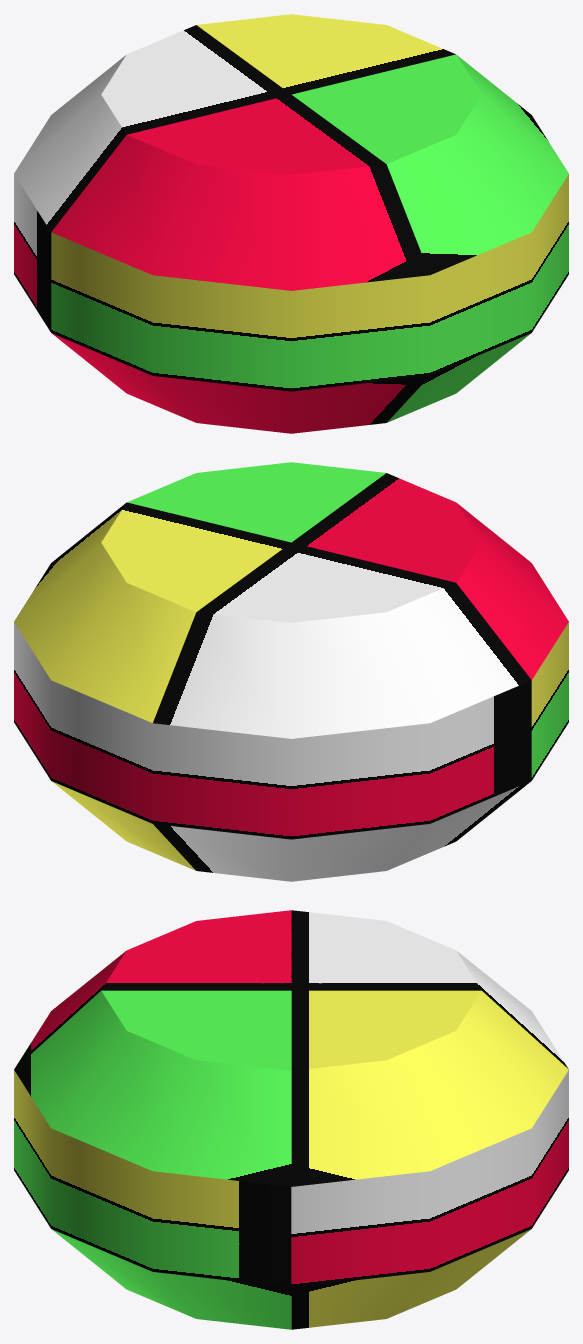
The model's file is diamond.FBX.
The picture shows the model from 3 angles, top to bottom: view 1: azimuth 30°, elevation 25°; view 2: azimuth 150°, elevation 25°; view 3: azimuth 270°, elevation 25°; orthographic projection.
Parts seen in each view (by area): view 1: ChamferCyl001; view 2: ChamferCyl001; view 3: ChamferCyl001.
Boxes of the visible parts, <box> form: ChamferCyl001: <box>14,14,568,433</box>; ChamferCyl001: <box>14,462,568,881</box>; ChamferCyl001: <box>14,910,568,1329</box>.
Bounding box in the file's own units: 19.38 × 9.97 × 19.38.
1 material, 1 textured.
